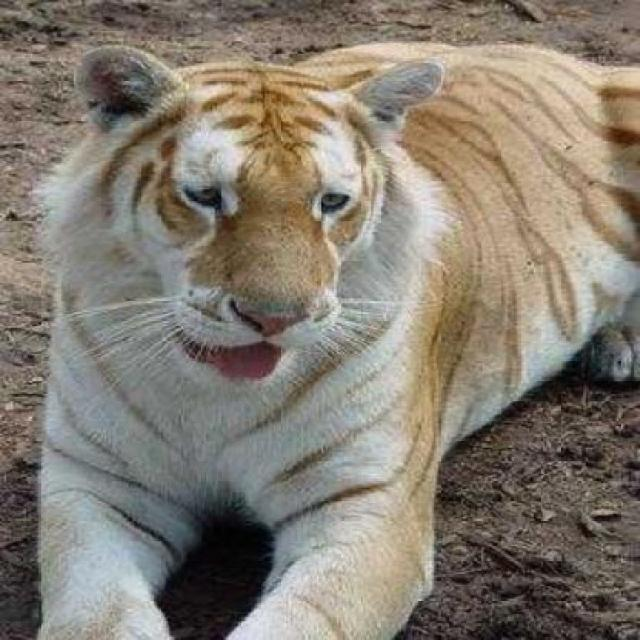Tiger: (11, 8, 638, 640)
